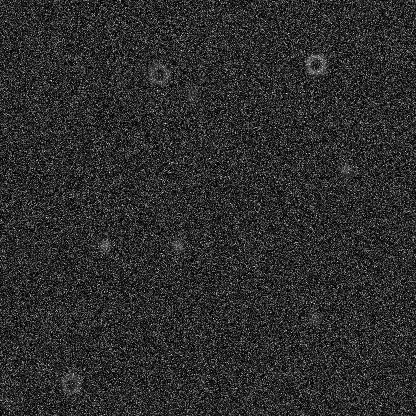Ring: (269, 357, 293, 381), (303, 52, 327, 76), (58, 371, 82, 395), (146, 61, 170, 85)
Spot: (306, 311, 322, 327), (96, 237, 112, 253), (169, 237, 185, 253), (183, 87, 199, 103), (337, 162, 353, 178)
